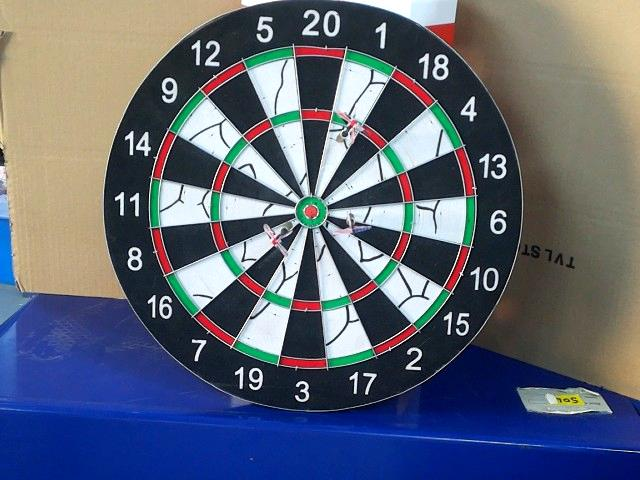single_1: (320, 128, 358, 188)
single_16: (230, 221, 293, 266)
single_6: (331, 207, 400, 228)
